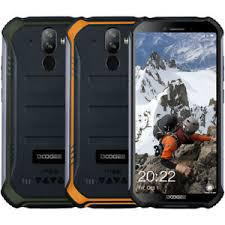Smartphone: (128, 18, 216, 208), (14, 20, 70, 213), (73, 21, 131, 201)
